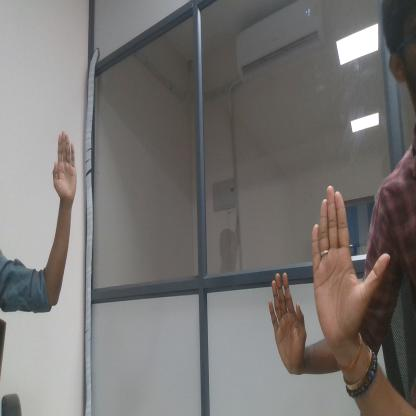Stop: (310, 186, 363, 343), (268, 266, 311, 386), (48, 121, 81, 207)
